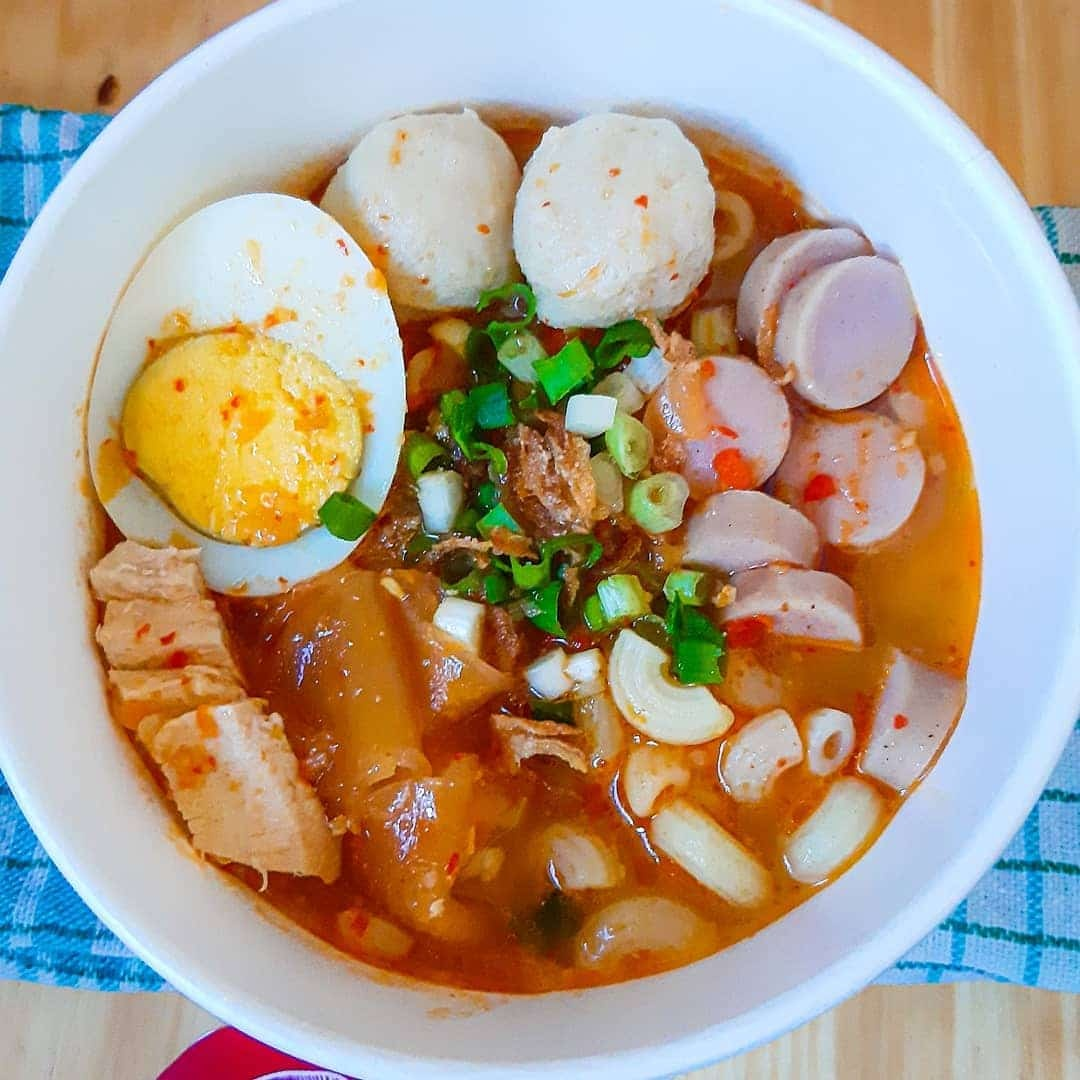seblak: (80, 110, 982, 997)
